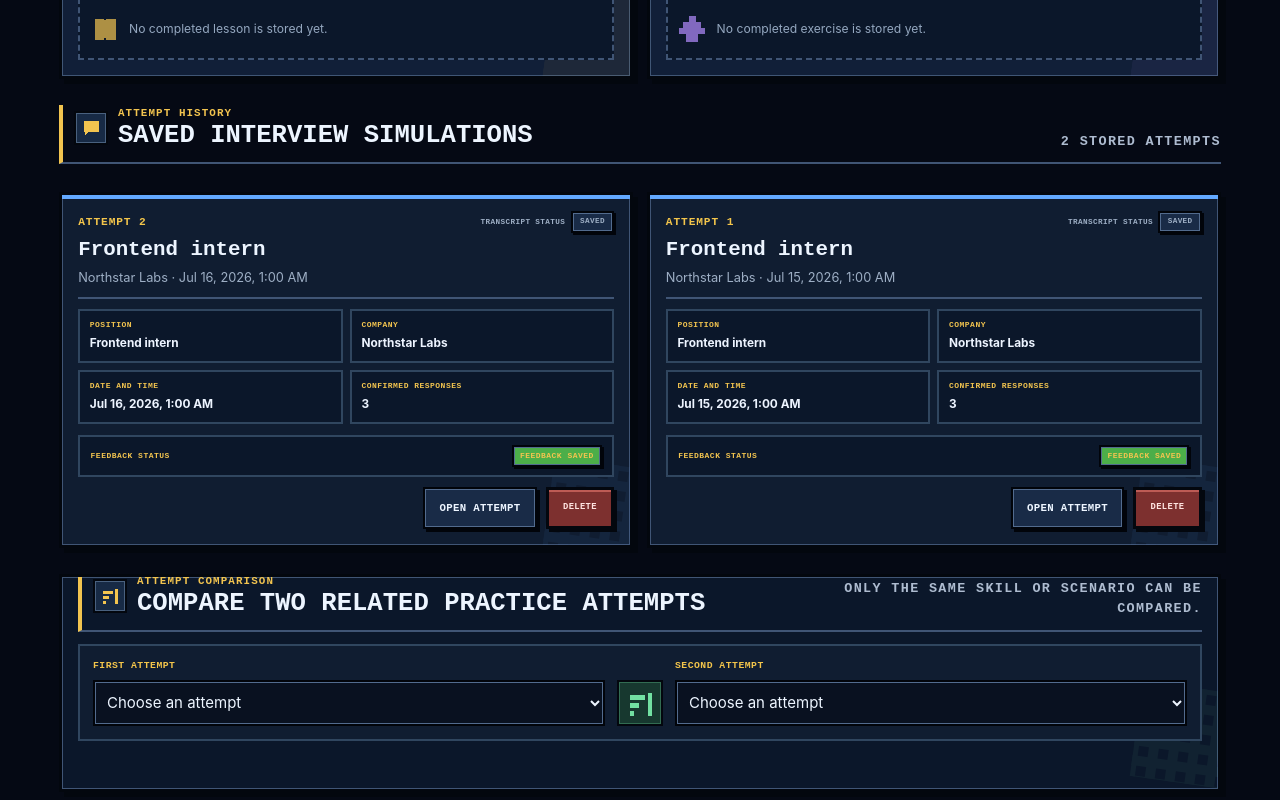
Test: ProgressDashboard › renders rubric changes, specific improvements, and remaining areas for two comparable attempts
This screenshot has width=1280, height=800.
(page scrolled)
expect the text "2 stored attempts" is shown: met, box top-left (1061, 132), bottom-right (1221, 152)
Select "Frontend intern · Jul 15, 2026, 1:00 AM" in the dropdown labelled "First attempt" at (349, 703), box top-left (93, 680), bottom-right (605, 726)
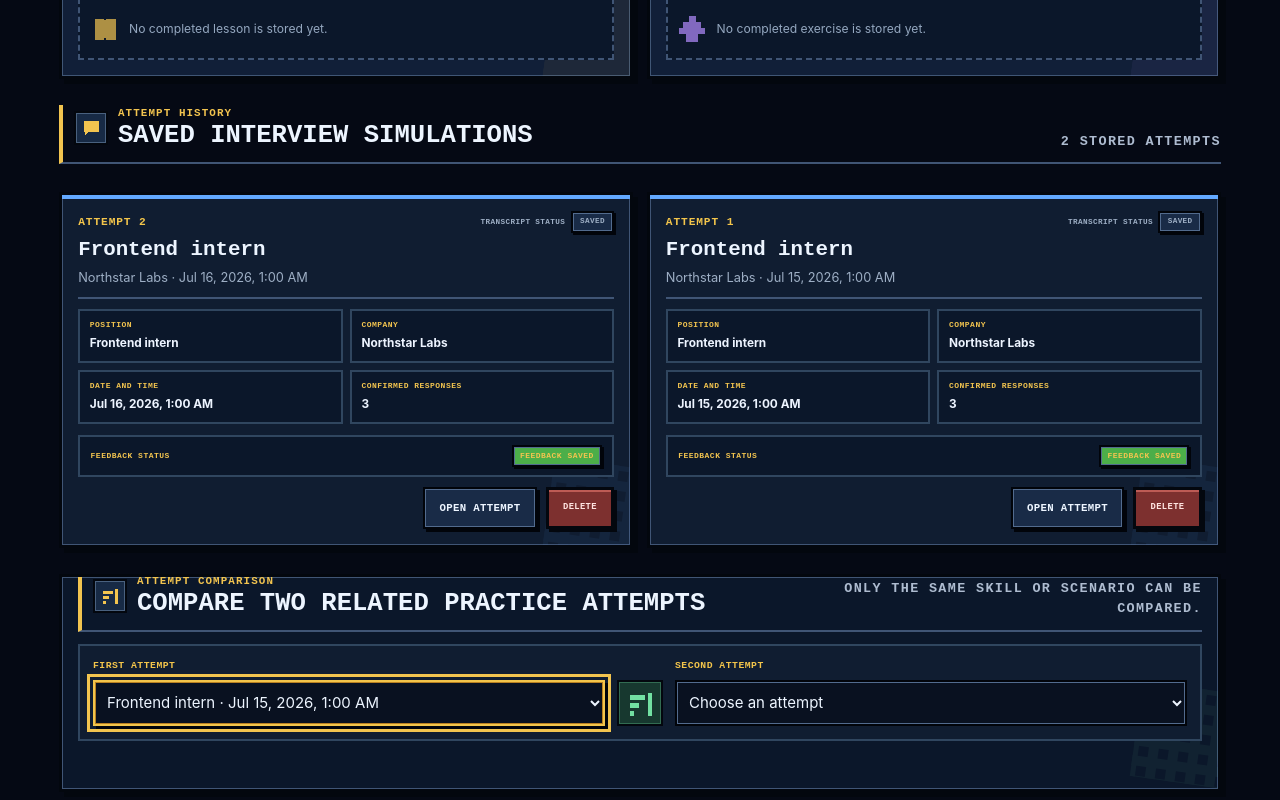
Select "Frontend intern · Jul 16, 2026, 1:00 AM" in the dropdown labelled "Second attempt" at (931, 703), box top-left (675, 680), bottom-right (1187, 726)
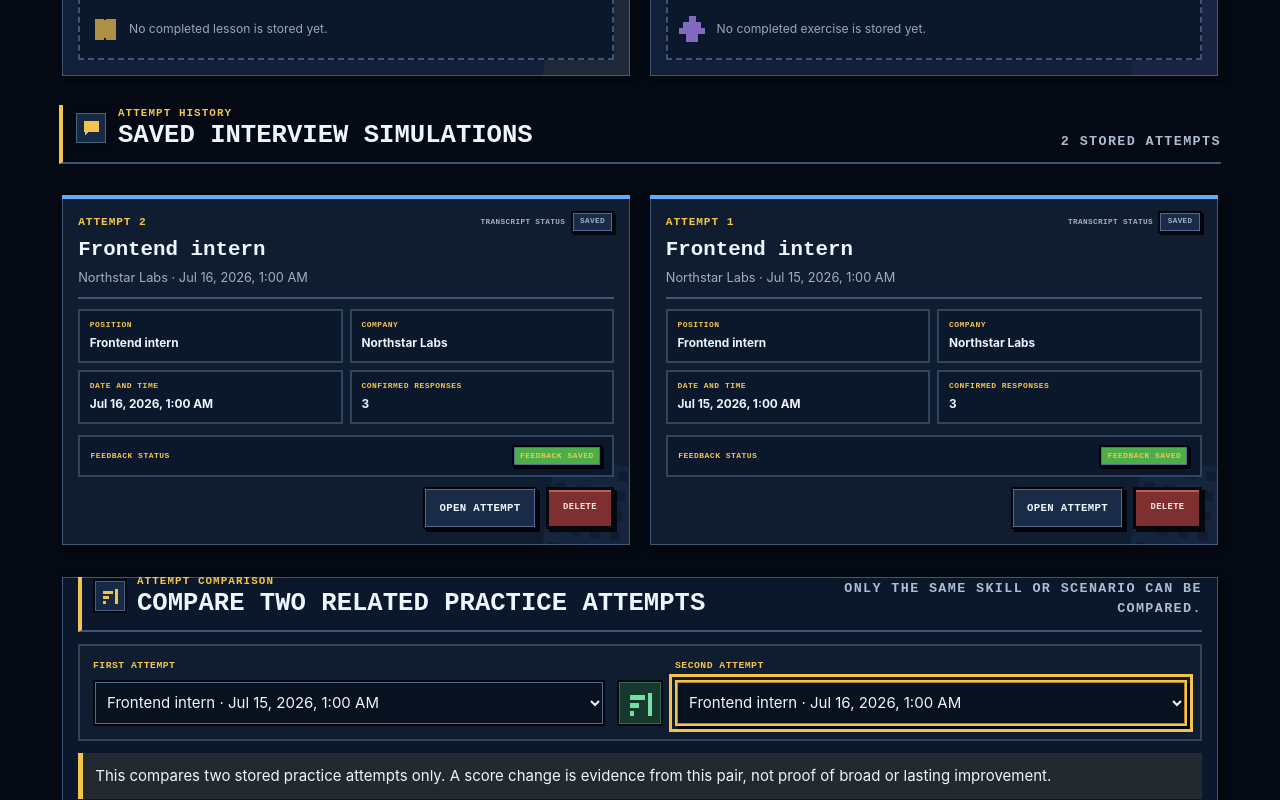
expect the text "not proof of broad or lasting improvement" is shown: met, box top-left (95, 766), bottom-right (1051, 785)
